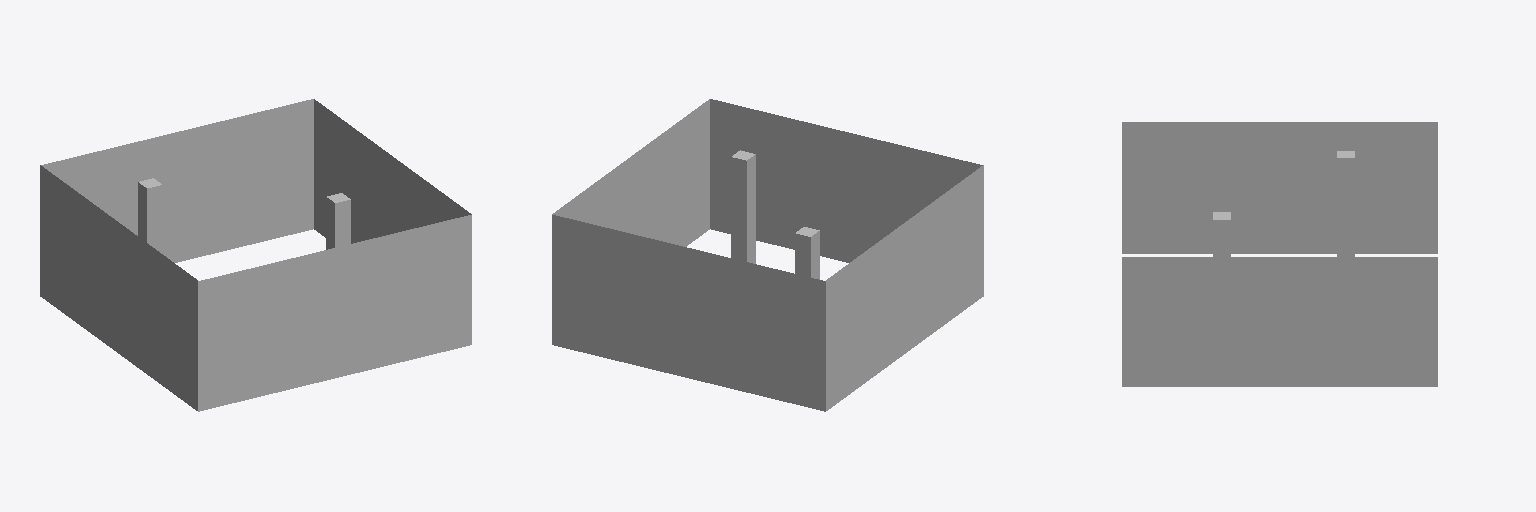
Rendered from galeria_walls.obj.
3 renders of one model, left to right at view 1: azimuth 30°, elevation 25°; view 2: azimuth 150°, elevation 25°; view 3: azimuth 270°, elevation 25°, orthographic.
Parts seen in each view (by area): view 1: Plane, Cube, Cube.001; view 2: Plane, Cube.001, Cube; view 3: Plane, Cube, Cube.001.
Part boxes in pixels (left/top/right/bottom): Plane: left=40, top=99, right=471, bottom=411; Cube: left=138, top=178, right=162, bottom=253; Cube.001: left=326, top=193, right=350, bottom=249; Plane: left=552, top=99, right=983, bottom=411; Cube.001: left=731, top=150, right=755, bottom=263; Cube: left=795, top=227, right=819, bottom=279; Plane: left=1122, top=122, right=1437, bottom=386; Cube: left=1337, top=151, right=1354, bottom=256; Cube.001: left=1213, top=212, right=1230, bottom=256.
Size of the model in its own units: 81.21 by 37.92 by 81.21.